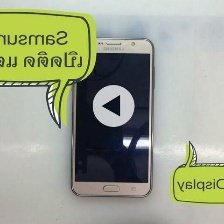phone: (66, 34, 158, 200)
